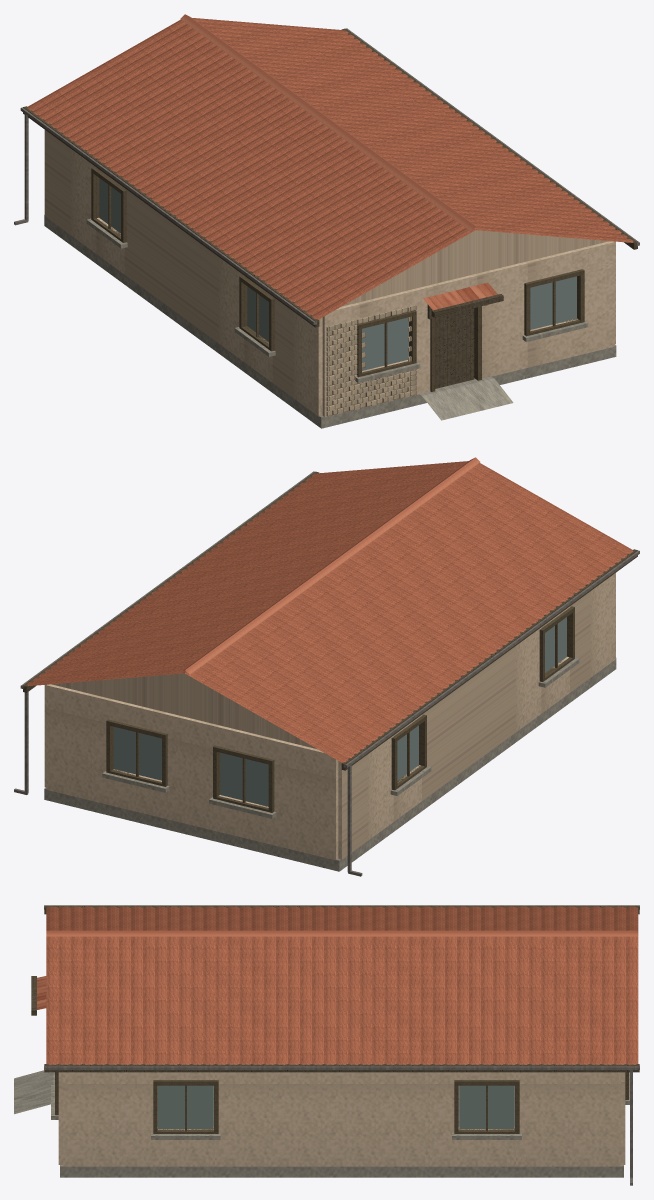
The picture shows the model from 3 angles, top to bottom: view 1: azimuth 30°, elevation 25°; view 2: azimuth 150°, elevation 25°; view 3: azimuth 270°, elevation 25°; orthographic projection.
Parts seen in each view (by area): view 1: H02_TELHAS, H02_LATERAIS, H02_FACHADA, H02_OITOES, H02_FUNDACAO, H02_VIDROS_RECUADOS, H02_TIJOLOS_APARENTES, H02_CAIXILHOS, H02_CUMEEIRA, H02_PORTA_FOLHA, H02_BEIRAIS, H02_CALHA (+6 smaller); view 2: H02_TELHAS, H02_FUNDOS, H02_LATERAIS, H02_FUNDACAO, H02_OITOES, H02_VIDROS_RECUADOS, H02_CAIXILHOS, H02_CUMEEIRA, H02_BEIRAIS, H02_CALHA, H02_PEITORIS, H02_CONDUTOR_PLUVIAL; view 3: H02_TELHAS, H02_LATERAIS, H02_FUNDACAO, H02_BEIRAIS, H02_VIDROS_RECUADOS, H02_CUMEEIRA, H02_CALHA, H02_CAIXILHOS, H02_RAMPA, H02_PEITORIS, H02_FACHADA, H02_FUNDOS.
Boxes of the visible parts, x1,y1,x2,y2 form: H02_TELHAS: (27,18,633,319); H02_LATERAIS: (44,130,615,416); H02_FACHADA: (322,241,614,417); H02_OITOES: (342,230,609,306); H02_FUNDACAO: (44,215,616,428); H02_VIDROS_RECUADOS: (99,178,576,370); H02_TIJOLOS_APARENTES: (326,305,416,416); H02_CAIXILHOS: (91,167,584,377); H02_CUMEEIRA: (180,14,479,231); H02_PORTA_FOLHA: (435,308,474,388); H02_BEIRAIS: (23,28,637,327); H02_CALHA: (20,28,639,324); H02_TELHAS: (27,461,633,762); H02_FUNDOS: (46,684,338,860); H02_LATERAIS: (44,573,615,859); H02_FUNDACAO: (44,658,616,871); H02_OITOES: (52,673,317,749); H02_VIDROS_RECUADOS: (113,617,566,806); H02_CAIXILHOS: (106,606,574,812); H02_CUMEEIRA: (181,457,480,674); H02_BEIRAIS: (23,471,637,770); H02_CALHA: (20,471,639,767); H02_PEITORIS: (102,657,579,818); H02_CONDUTOR_PLUVIAL: (24,692,351,872); H02_TELHAS: (46,906,638,1064); H02_LATERAIS: (63,1072,620,1166); H02_FUNDACAO: (60,1086,623,1177); H02_BEIRAIS: (44,905,639,1072); H02_VIDROS_RECUADOS: (158,1085,514,1128); H02_CUMEEIRA: (46,930,637,936); H02_CALHA: (44,905,639,1069); H02_CAIXILHOS: (55,1072,628,1133); H02_RAMPA: (14,1070,53,1114); H02_PEITORIS: (51,1072,629,1139); H02_FACHADA: (58,1072,63,1164); H02_FUNDOS: (620,1072,625,1164).
Size of the model in its own units: 9.1 by 4.28 by 13.98.
9 materials, 8 textured.
